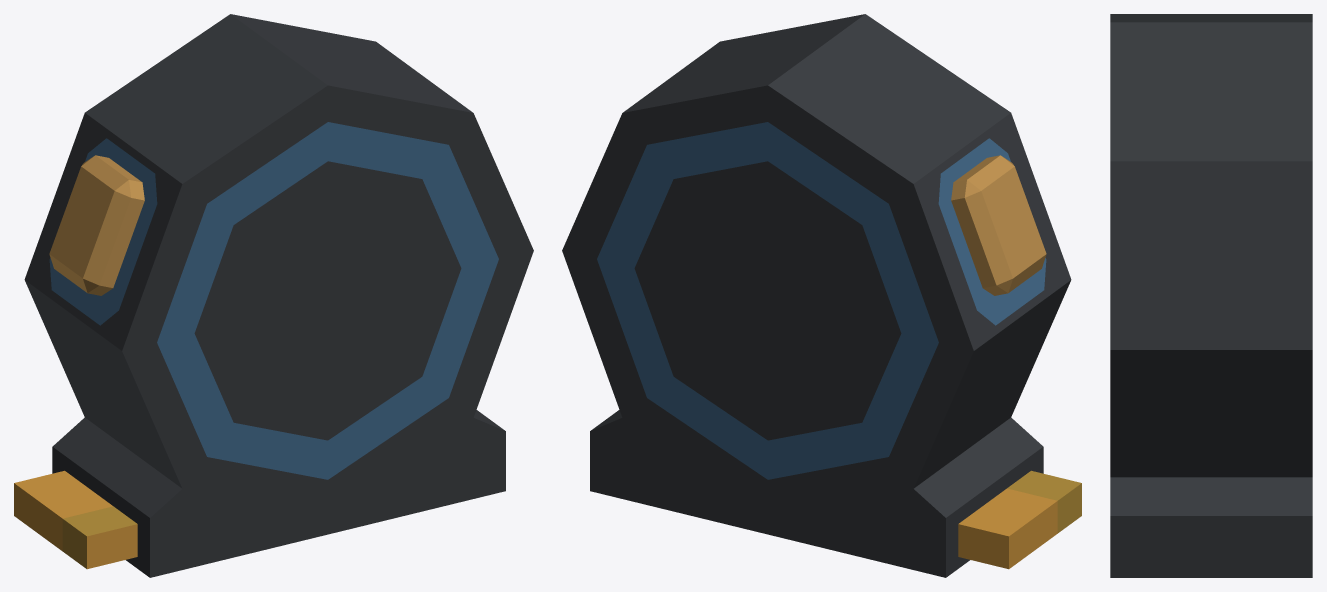
File: SM_Item_Tape_Measure_01.glb
3 views of the same model, side by side, from view 1: azimuth 30°, elevation 25°; view 2: azimuth 150°, elevation 25°; view 3: azimuth 270°, elevation 25° (orthographic). The views are drawn at different scales.
Parts seen in each view (by area): view 1: SM_Item_Tape_Measure_01, SM_Item_Tape_Measure_01_Tape; view 2: SM_Item_Tape_Measure_01, SM_Item_Tape_Measure_01_Tape; view 3: SM_Item_Tape_Measure_01.
Part boxes in pixels (x1,y1,x2,y2): SM_Item_Tape_Measure_01: (24, 14, 533, 577); SM_Item_Tape_Measure_01_Tape: (14, 470, 137, 569); SM_Item_Tape_Measure_01: (562, 14, 1071, 577); SM_Item_Tape_Measure_01_Tape: (958, 470, 1081, 569); SM_Item_Tape_Measure_01: (1110, 14, 1312, 577).
Bounding box in the file's own units: 0.1753 × 0.1731 × 0.0682.
Materials: 1 (1 with a texture image).
